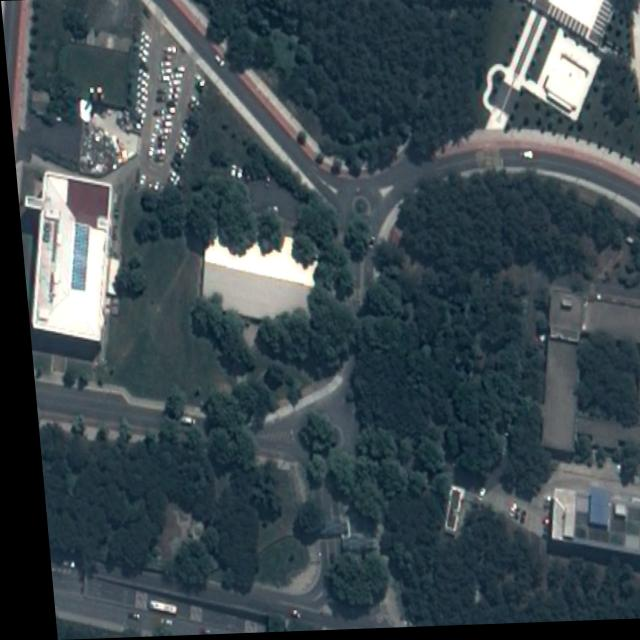Batiment: (14, 170, 107, 361), (479, 0, 611, 132), (196, 239, 308, 320), (542, 491, 564, 543), (578, 492, 598, 532)
